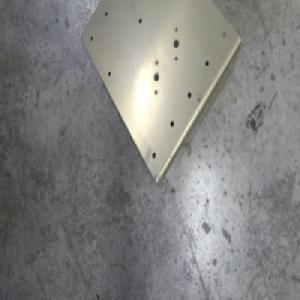MetalSheet: (78, 0, 241, 189)
